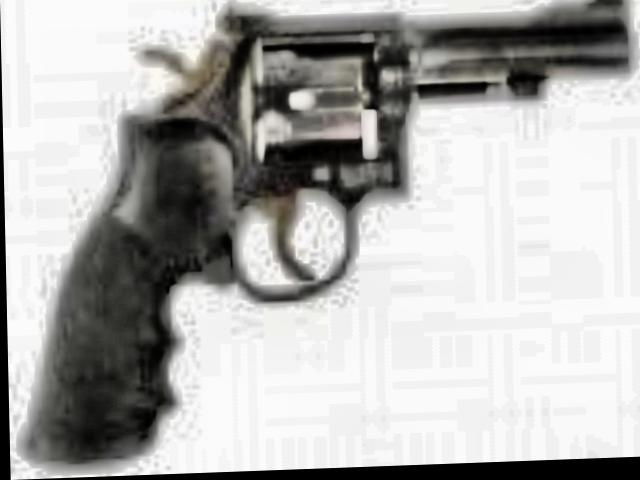pistol: (12, 0, 624, 460)
